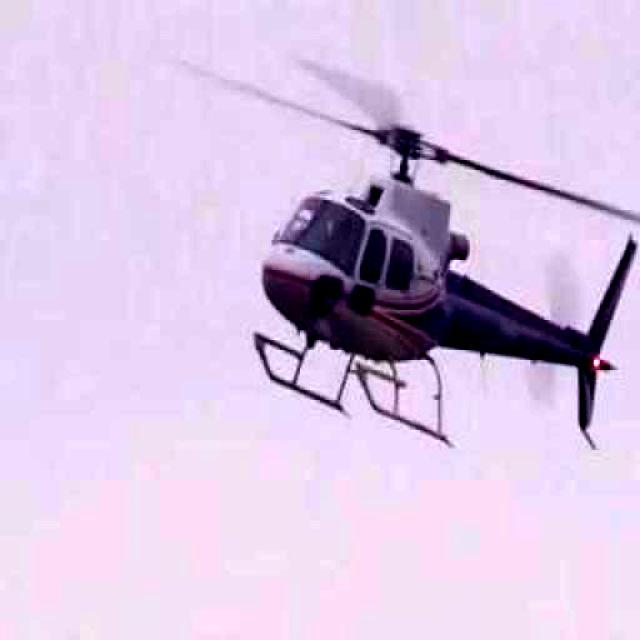drone: (122, 16, 640, 490)
